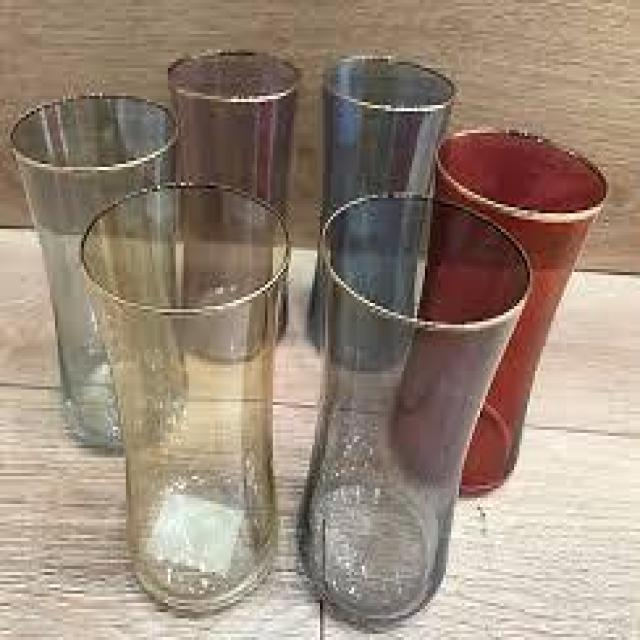non-organic waste: (291, 182, 538, 634), (72, 175, 295, 623)
